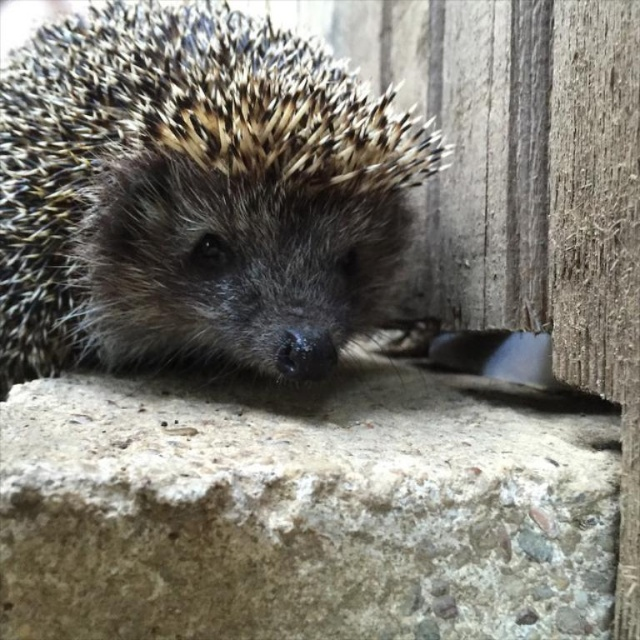Hedgehog: (0, 0, 455, 401)
